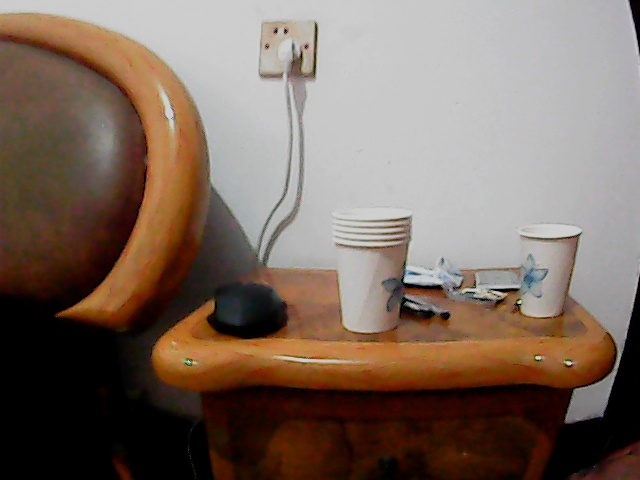cup: (330, 205, 410, 335)
mouse: (205, 280, 289, 339)
